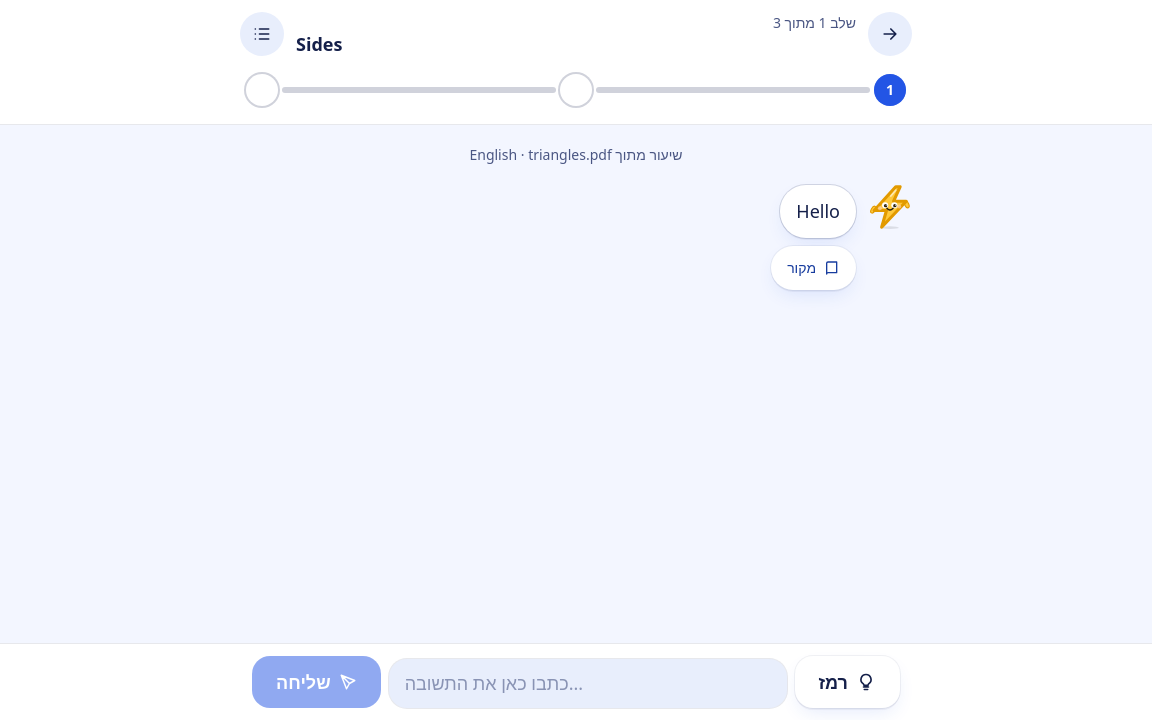
it: answering › sending a message shows the student bubble and a streaming tutor bubble
Expected: the text "Hello" is shown, [796, 197, 840, 226]
Type "three" into the text box named "התשובה שלכם" at (588, 684), box [389, 659, 786, 708]
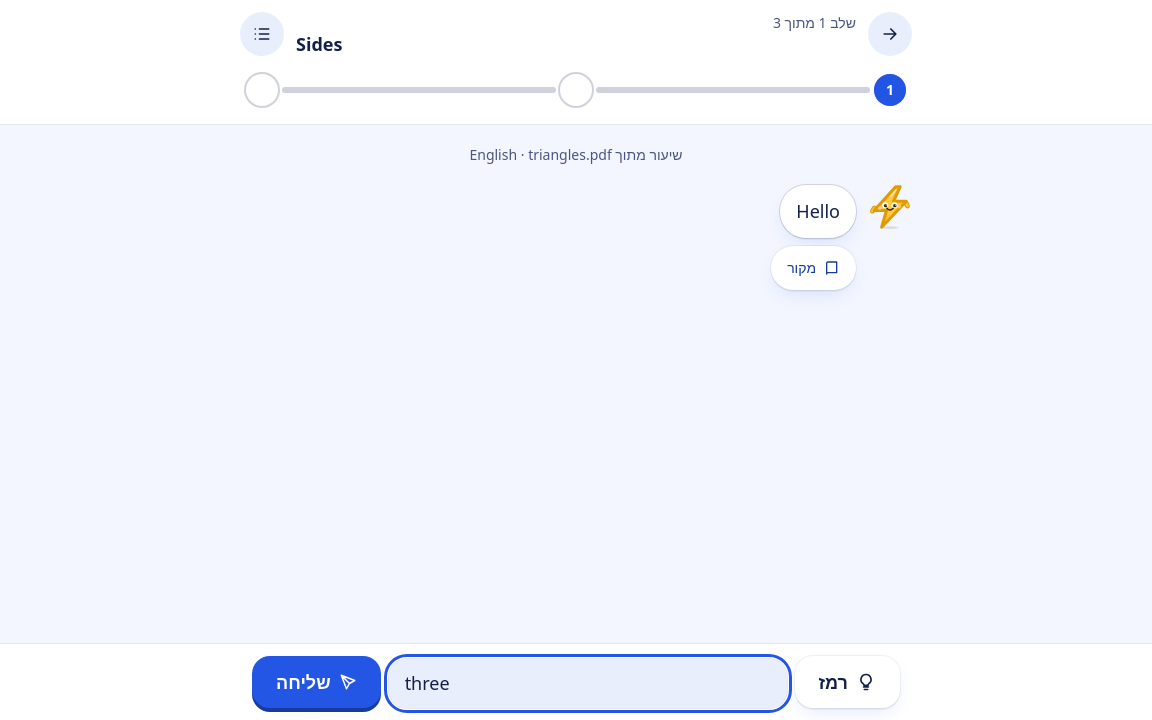
Click the button "שליחה" at (316, 682), box [252, 656, 381, 708]
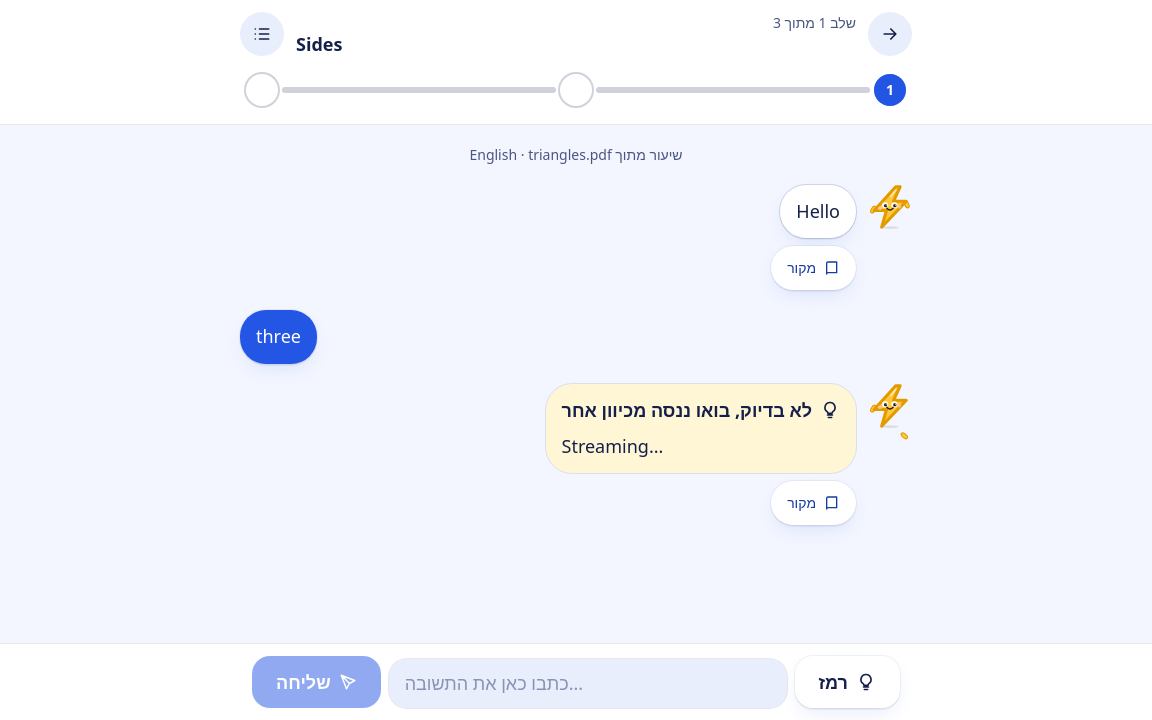
Expected: the text box named "התשובה שלכם" is enabled, [389, 659, 786, 708]
Result: the text "three" is shown at [240, 310, 317, 364]
Result: the text "Streaming..." is shown at [562, 434, 663, 458]
